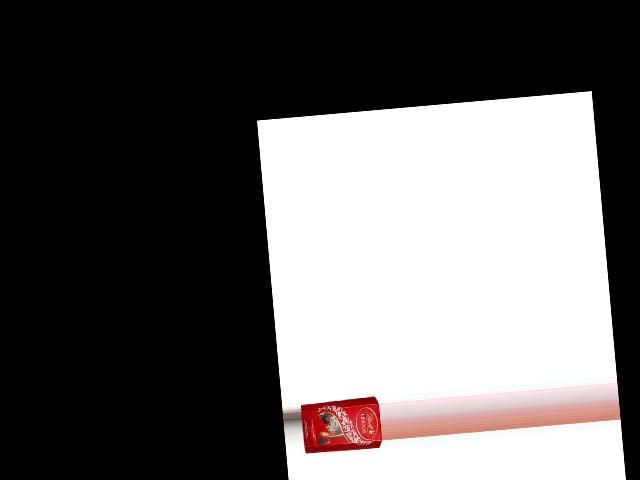chocolate: (299, 395, 382, 458)
